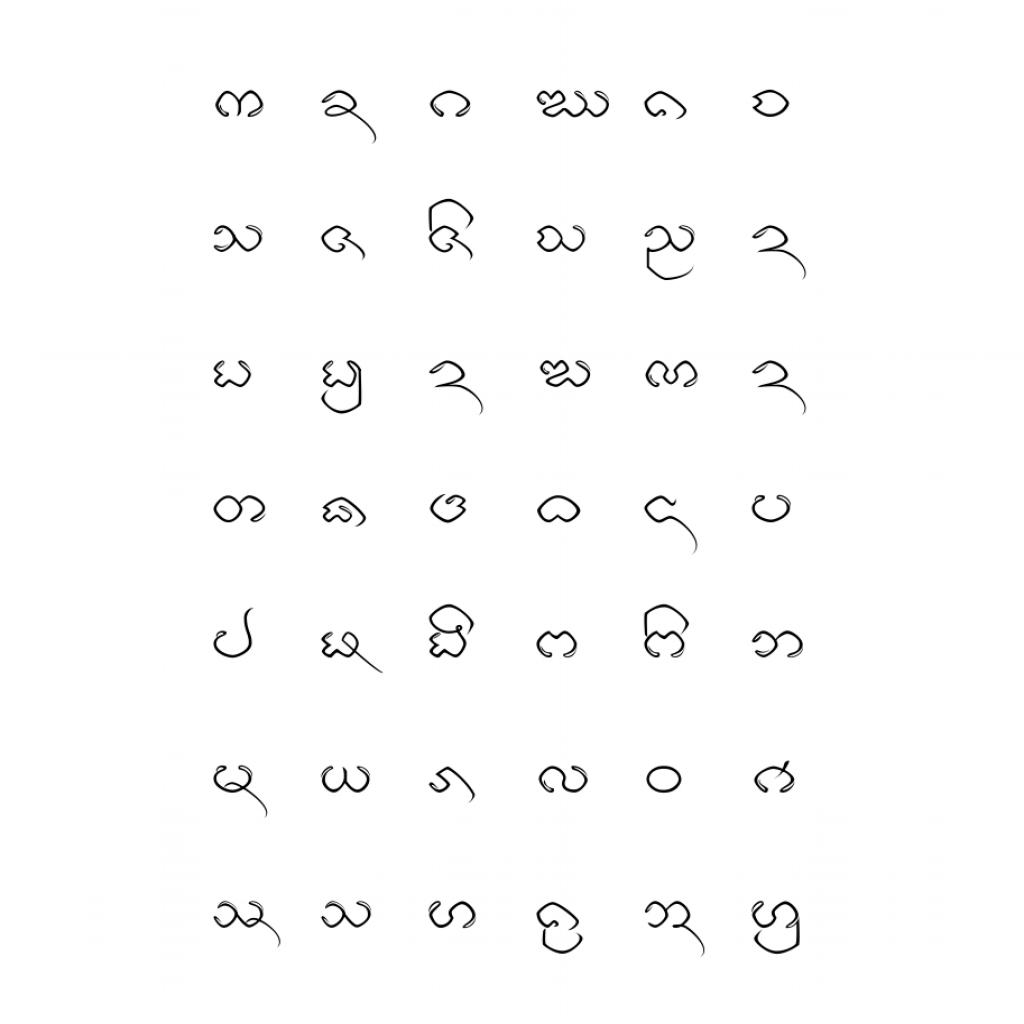LN001: (213, 88, 269, 122)
LN003: (427, 88, 475, 121)
LN004: (534, 88, 614, 122)
LN005: (641, 88, 691, 123)
LN006: (749, 87, 793, 121)
LN007: (210, 222, 268, 257)
LN011: (641, 222, 700, 285)
LN013: (211, 358, 255, 392)
LN014: (320, 357, 367, 418)
LN016: (537, 357, 595, 392)
LN017: (643, 358, 703, 392)
LN019: (211, 493, 270, 527)
LN020: (319, 494, 370, 531)
LN022: (534, 493, 585, 528)
LN024: (748, 492, 796, 528)
LN025: (210, 605, 258, 662)
LN027: (426, 602, 479, 662)
LN028: (534, 628, 581, 662)
LN029: (640, 602, 694, 662)
LN030: (749, 628, 807, 662)
LN031: (210, 762, 272, 805)
LN032: (318, 764, 375, 797)
LN034: (536, 763, 592, 797)
LN035: (644, 764, 686, 797)
LN036: (750, 759, 799, 798)
LN037: (211, 899, 285, 938)
LN038: (318, 898, 376, 932)
LN039: (426, 899, 481, 933)
LN040: (533, 900, 587, 958)
LN042: (748, 898, 805, 958)
